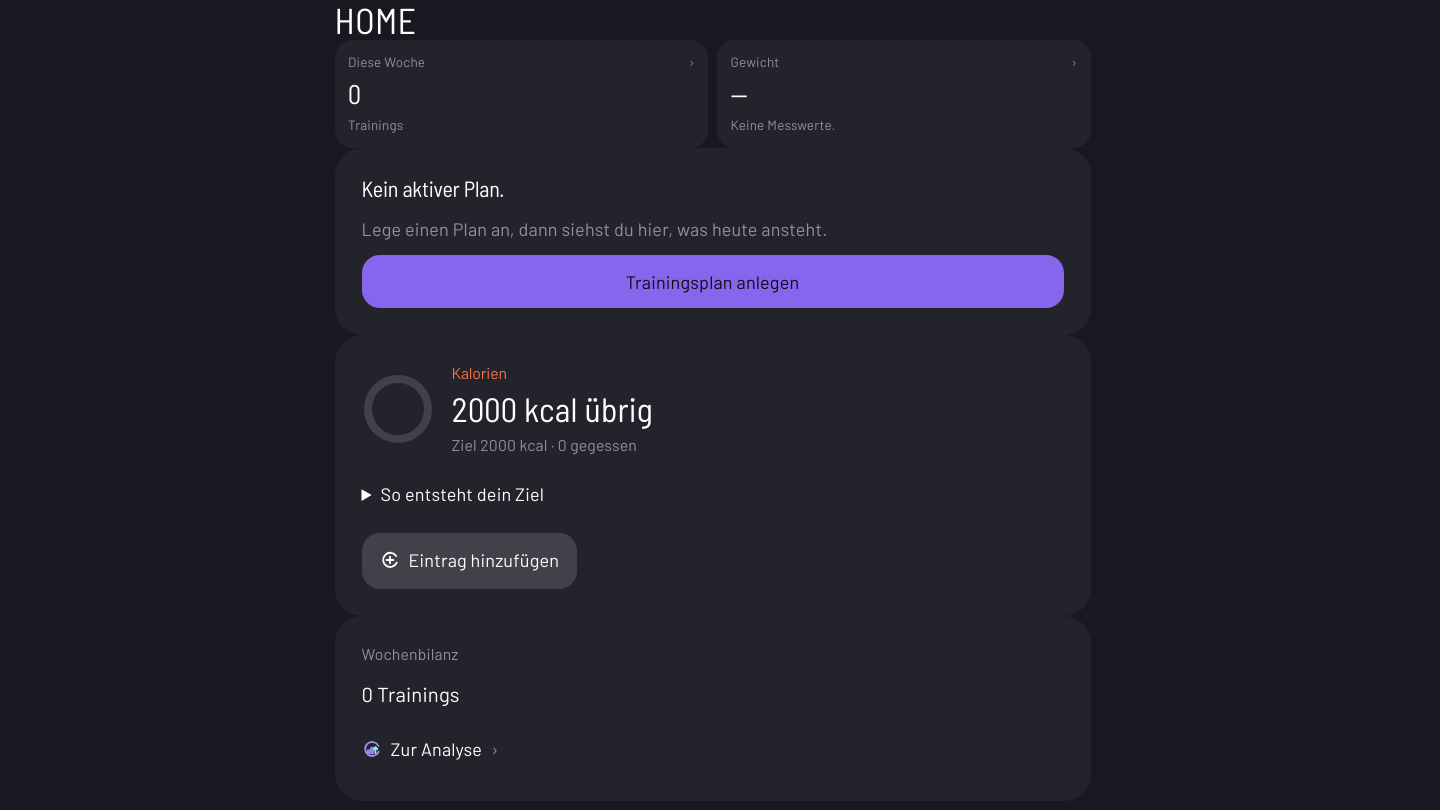
HomePage › opens the weight entry right from the weight tile
The image size is (1440, 810).
Click the button "Gewicht › — Keine Messwerte.".
click(755, 62)  # box [717, 40, 1090, 148]
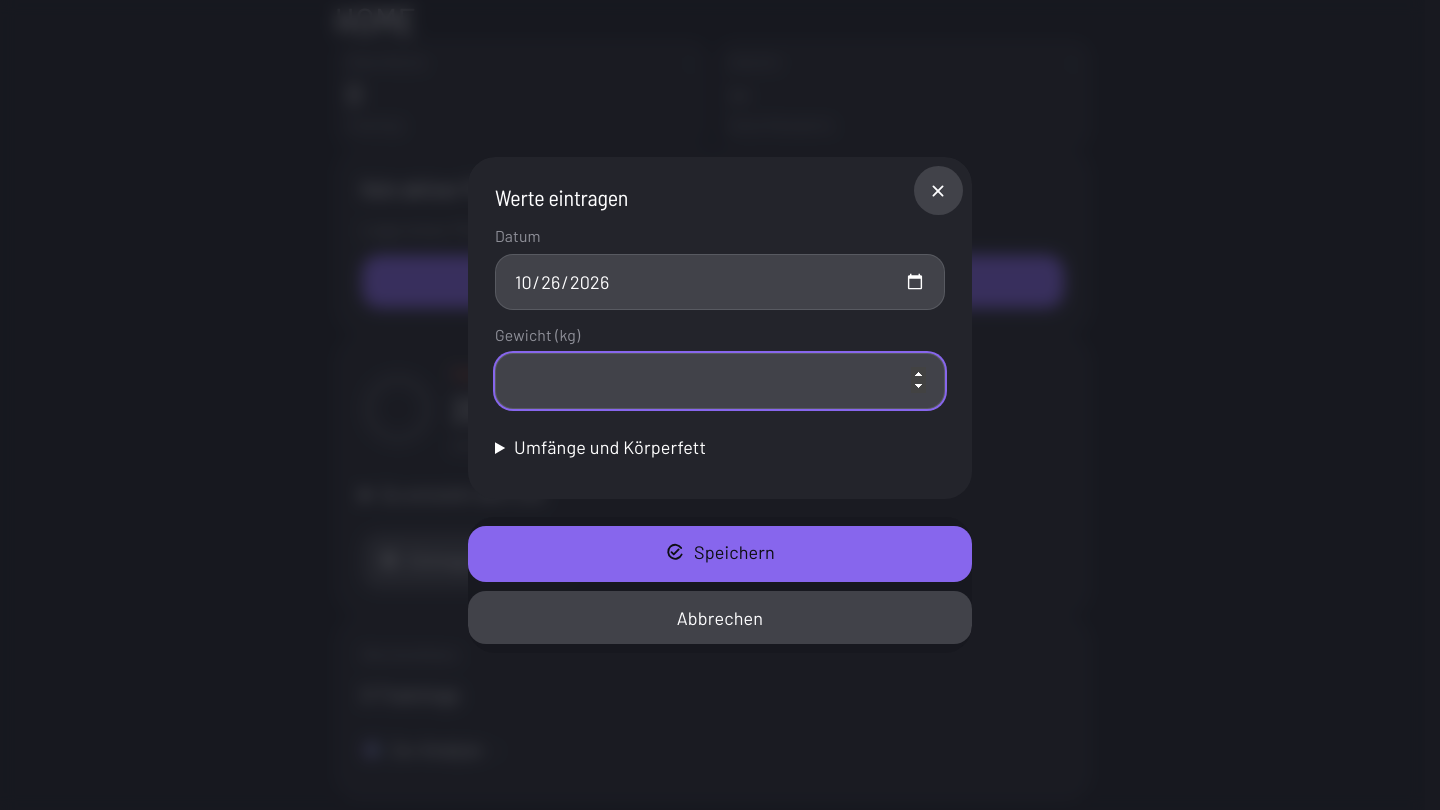
Check: the number field labelled "Gewicht (kg)" is shown, box [495, 353, 945, 409]
